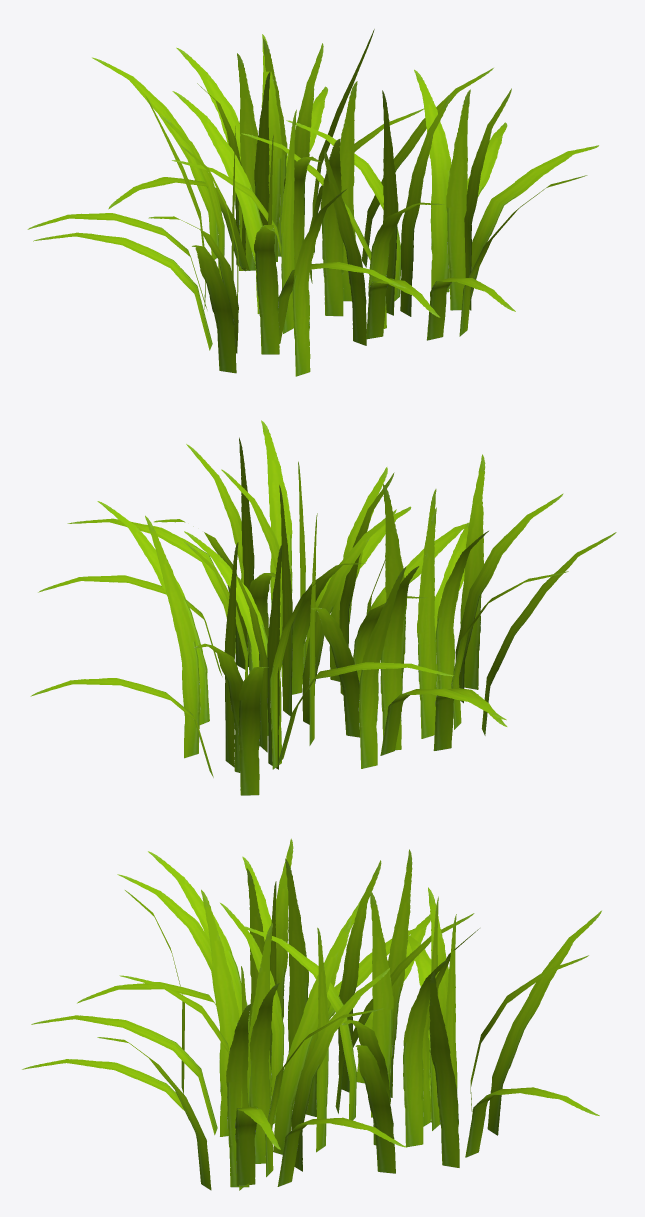
The model's file is Grass Big.fbx.
3 views of the same model, one above another, from view 1: azimuth 30°, elevation 25°; view 2: azimuth 150°, elevation 25°; view 3: azimuth 270°, elevation 25° (orthographic). The views are drawn at different scales.
Visible parts, largest first — view 1: group3_pPlane2; view 2: group3_pPlane2; view 3: group3_pPlane2.
Boxes of the visible parts, <box> form: group3_pPlane2: <box>27,29,598,376</box>; group3_pPlane2: <box>30,420,616,795</box>; group3_pPlane2: <box>22,838,601,1190</box>.
Size of the model in its own units: 0.024 by 0.0106 by 0.0237.
Materials: 45 (45 with a texture image).
